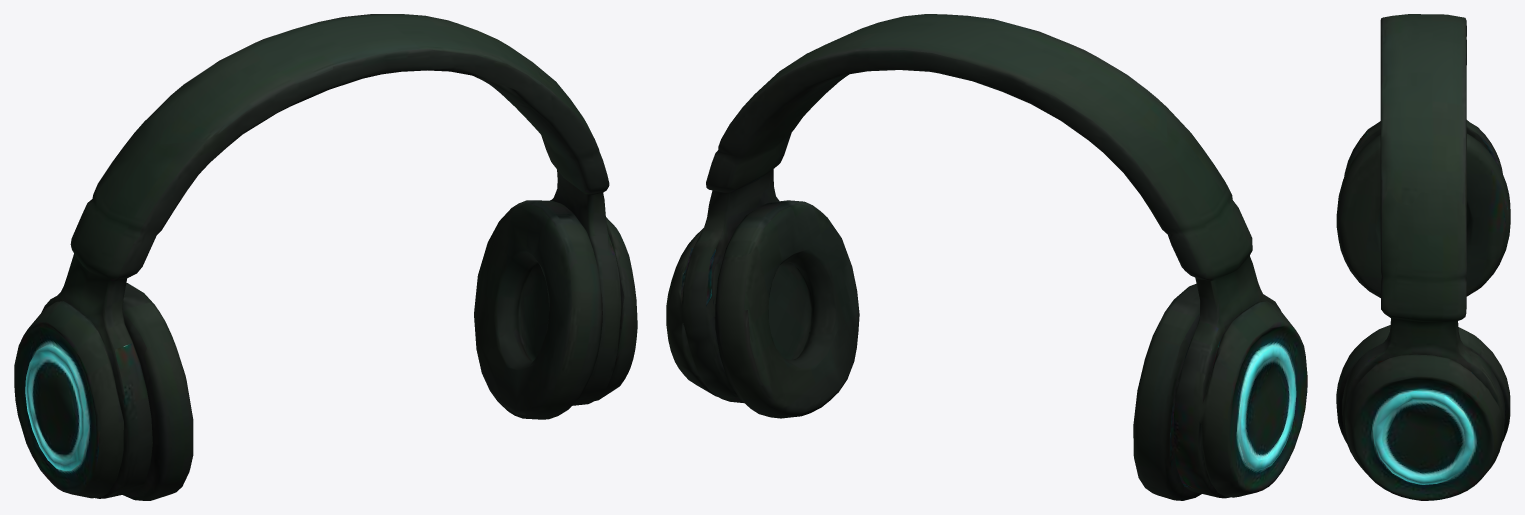
File: Headphone.glb
3 renders of one model, left to right at view 1: azimuth 30°, elevation 25°; view 2: azimuth 150°, elevation 25°; view 3: azimuth 270°, elevation 25°, orthographic. The views are drawn at different scales.
Visible parts, largest first — view 1: Headphone; view 2: Headphone; view 3: Headphone.
Part boxes in pixels (x1,y1,x2,y2): Headphone: [14, 14, 637, 500]; Headphone: [666, 14, 1307, 500]; Headphone: [1336, 14, 1510, 500].
Bounding box in the file's own units: 0.9295 × 0.6592 × 0.2901.
Materials: 1 (1 with a texture image).
